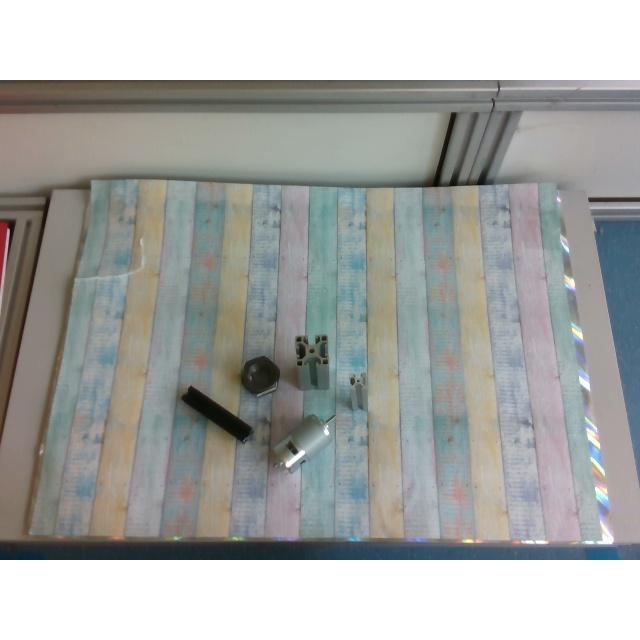F20_20_B: (180, 386, 252, 442)
F20_20_G: (349, 374, 367, 411)
M30: (241, 356, 279, 396)
Motor2: (270, 414, 338, 474)
S40_40_G: (294, 334, 328, 390)
